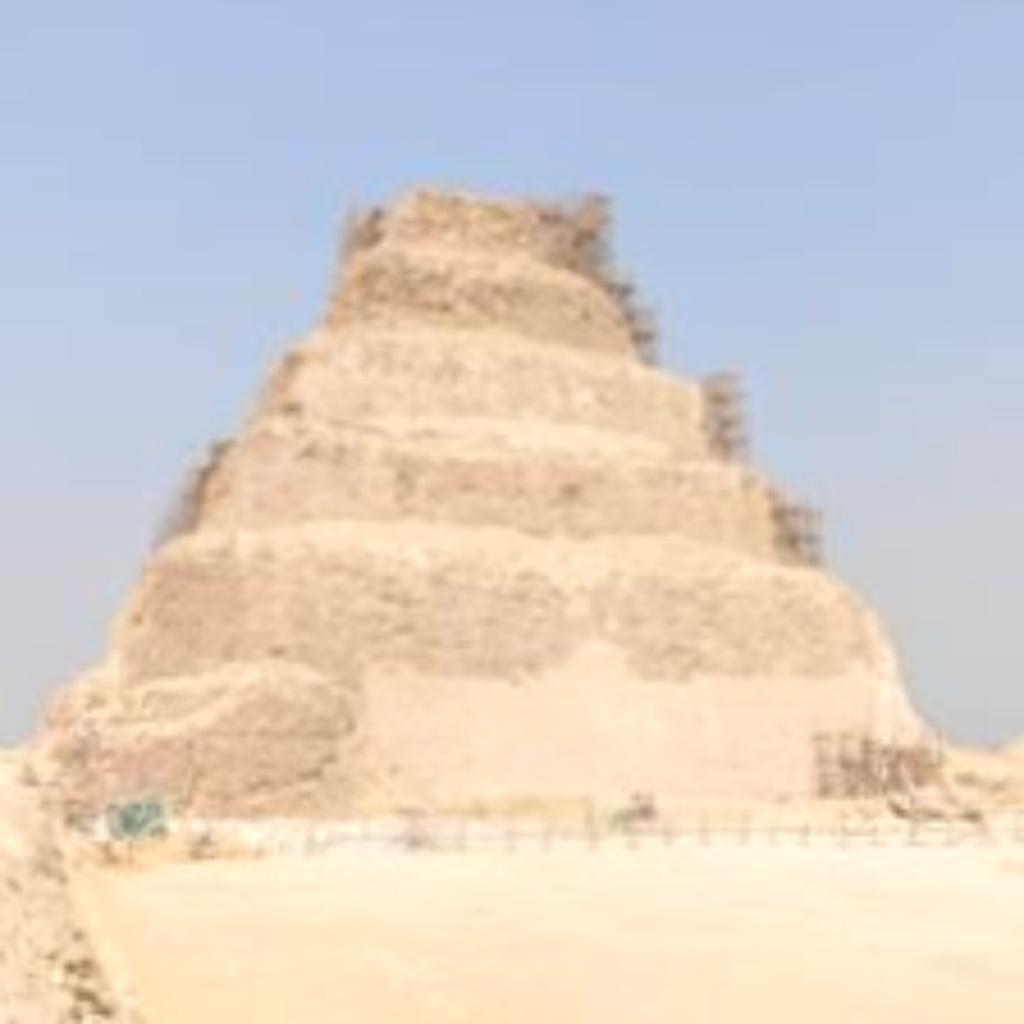Pyramid of Djoser: (22, 170, 956, 836)
